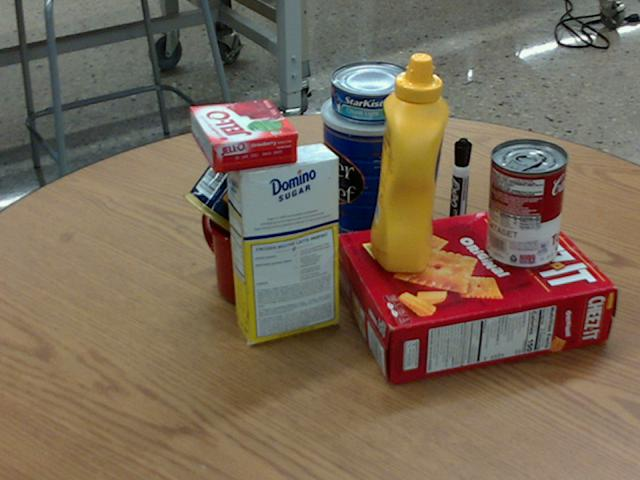cracker_box: (338, 202, 614, 385)
gelatin_box: (190, 97, 297, 172)
large_marker: (447, 138, 470, 244)
master_chef_can: (323, 88, 422, 246)
mug: (201, 192, 298, 304)
mustard_bottle: (370, 52, 448, 272)
potted_meat_can: (183, 126, 315, 254)
sugar_box: (224, 143, 339, 343)
tomato_soup_can: (487, 137, 567, 268)
tuna_fish_can: (331, 60, 413, 122)
